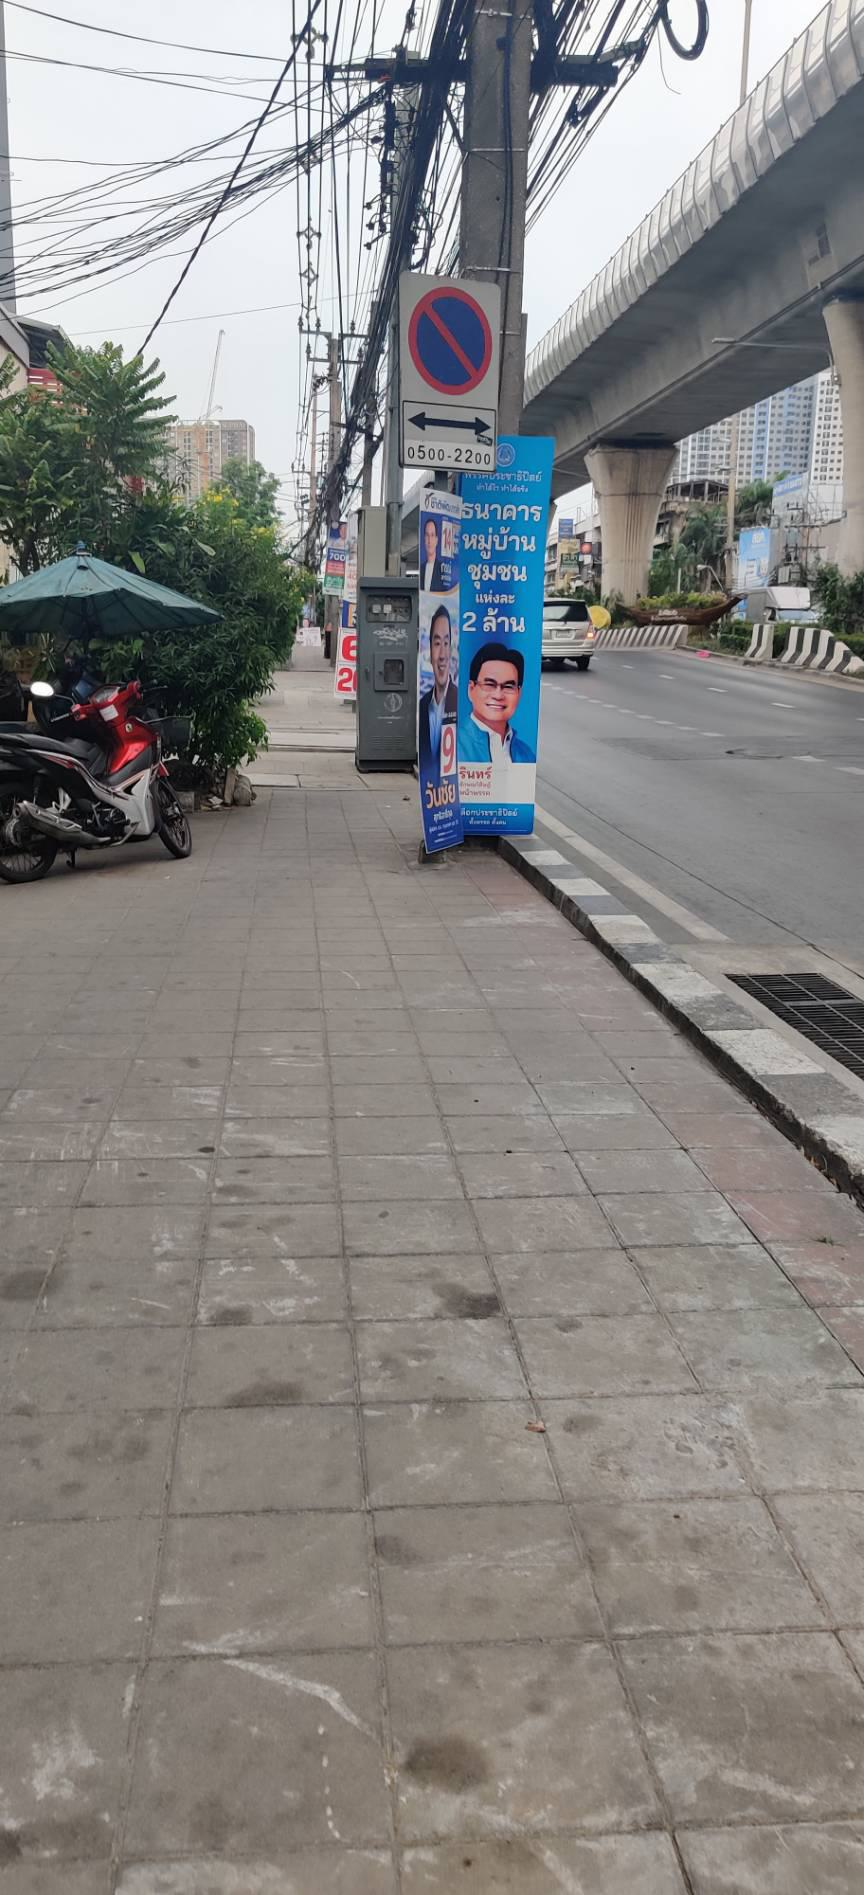Banner: (443, 441, 572, 859), (412, 602, 483, 852)
